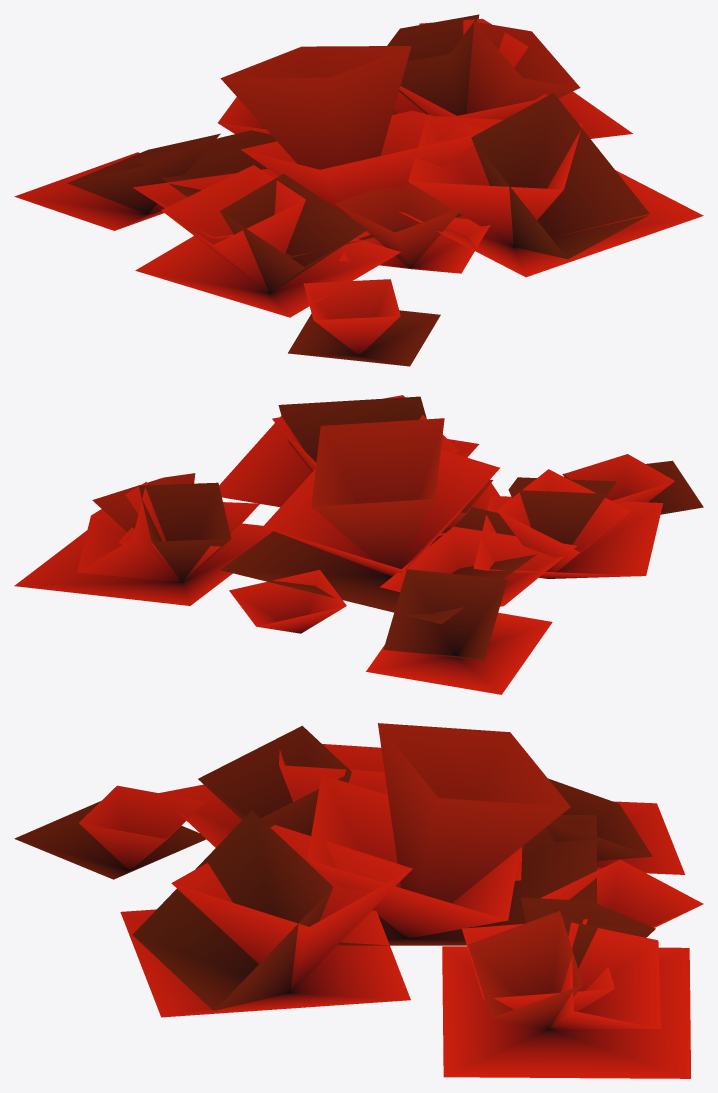
The model's file is TinyW14_high.FBX.
3 renders of one model, top to bottom at view 1: azimuth 30°, elevation 25°; view 2: azimuth 150°, elevation 25°; view 3: azimuth 270°, elevation 25°, orthographic. The views are drawn at different scales.
Parts seen in each view (by area): view 1: TinyW14_high; view 2: TinyW14_high; view 3: TinyW14_high.
Boxes of the visible parts, bbox=[...] form: TinyW14_high: bbox=[14, 14, 703, 366]; TinyW14_high: bbox=[14, 395, 703, 694]; TinyW14_high: bbox=[14, 723, 703, 1078].
Size of the model in its own units: 0.7109 by 0.2198 by 0.7127.
